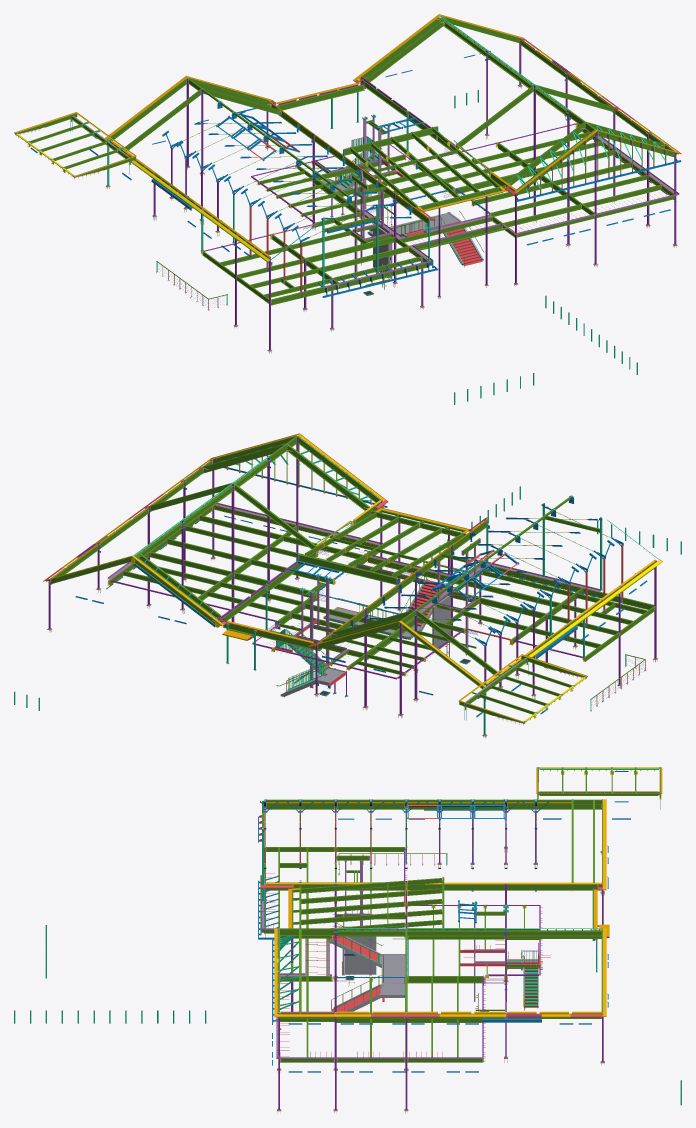
3 views of the same model, one above another, from view 1: azimuth 30°, elevation 25°; view 2: azimuth 150°, elevation 25°; view 3: azimuth 270°, elevation 25° (orthographic). The views are drawn at different scales.
Parts seen in each view (by area): view 1: Mesh 39096; view 2: Mesh 39096; view 3: Mesh 39096.
Part boxes in pixels (x1,y1,x2,y2): Mesh 39096: [14, 14, 681, 404]; Mesh 39096: [14, 433, 681, 738]; Mesh 39096: [14, 767, 681, 1113].
Bounding box in the file's own units: 50.39 × 14.23 × 57.59.
1 material, 1 textured.
